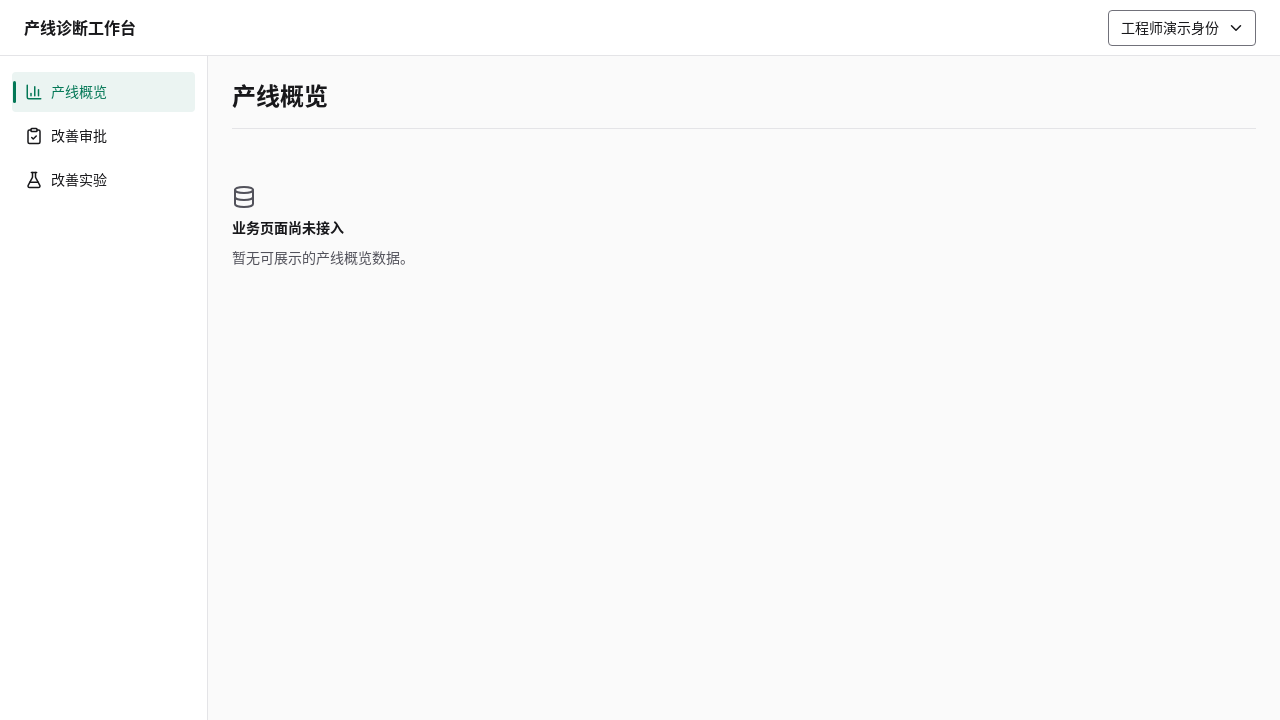
Scenario: WorkbenchApp app-shell › shows read-only content and a permission reason for a read-only identity
The width and height of the screenshot is (1280, 720).
Step 1. Click the button "工程师演示身份" → (1182, 28), box top-left (1108, 10), bottom-right (1256, 46)
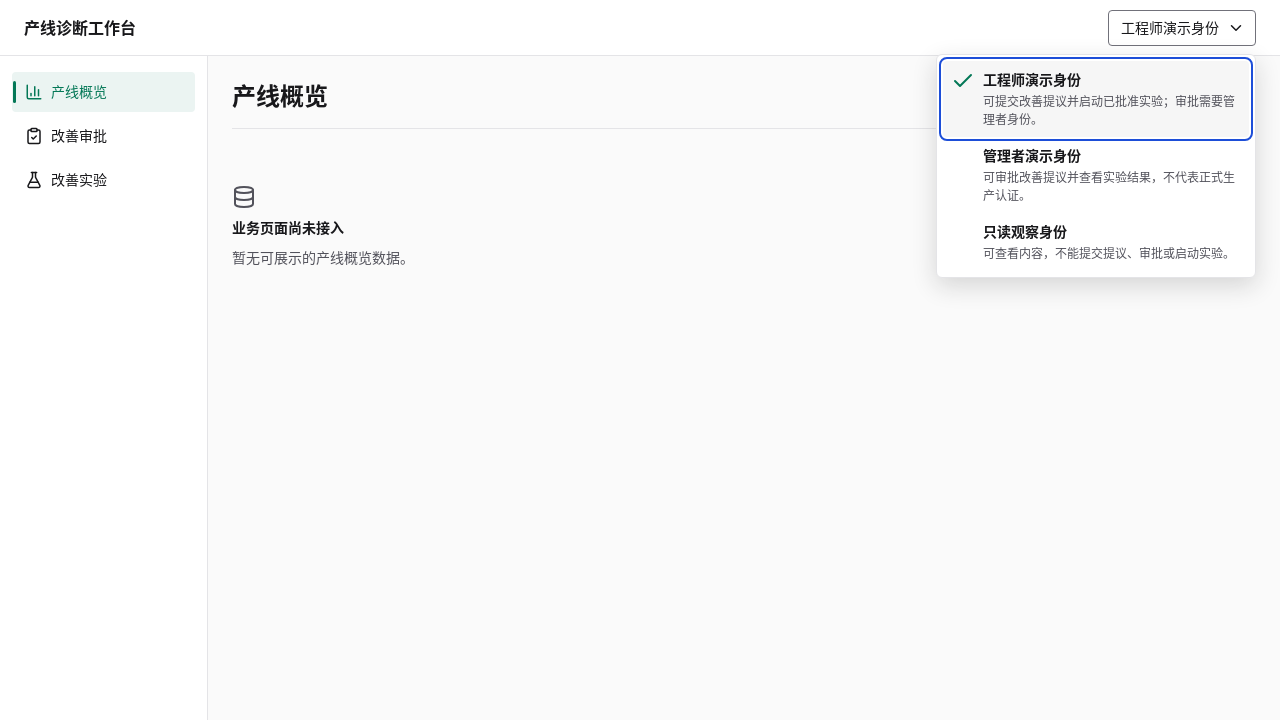
Step 2. Click the menu item "只读观察身份 可查看内容，不能提交提议、审批或启动实验。" → (1096, 242), box top-left (943, 212), bottom-right (1249, 270)
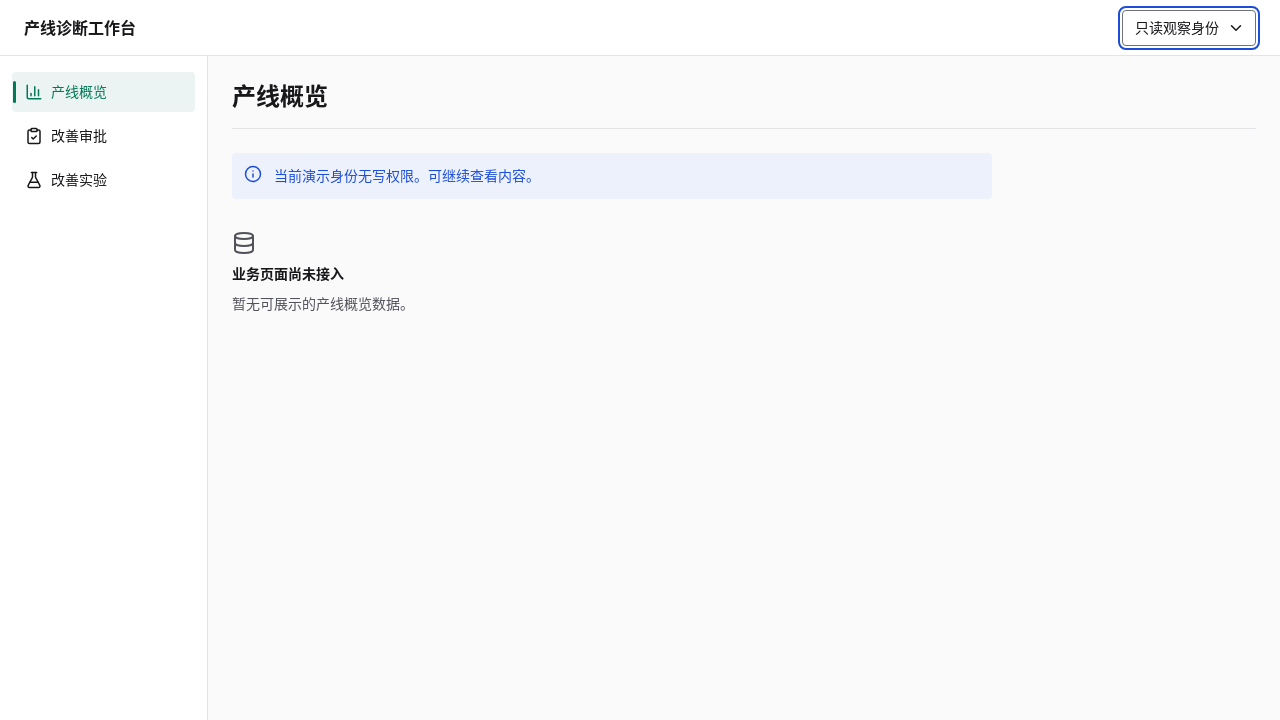
Expected: the button "改善审批" is enabled, top-left (12, 116), bottom-right (195, 156)
Result: the text "当前演示身份无写权限。可继续查看内容。" is shown at top-left (274, 165), bottom-right (540, 187)
